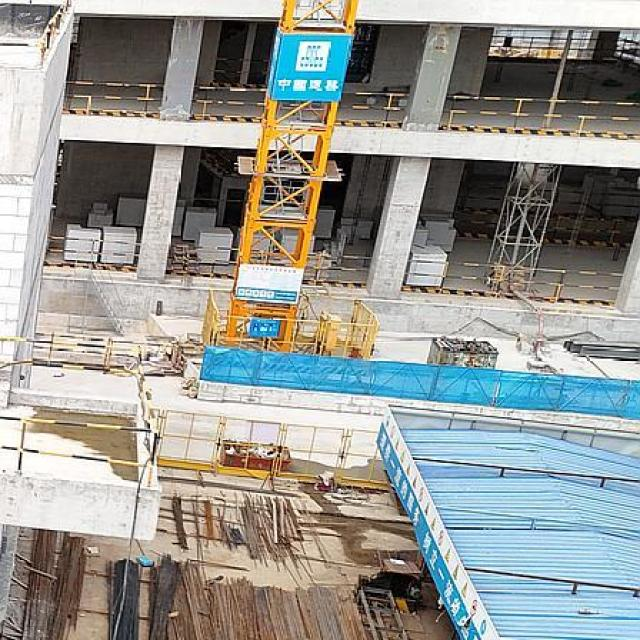edge_guardrail: (0, 336, 161, 483), (402, 259, 625, 304), (189, 86, 412, 127), (438, 95, 640, 138), (0, 1, 69, 66), (63, 80, 164, 117), (45, 236, 141, 271), (164, 245, 240, 278), (490, 35, 597, 58), (304, 254, 372, 286), (614, 38, 640, 59)
